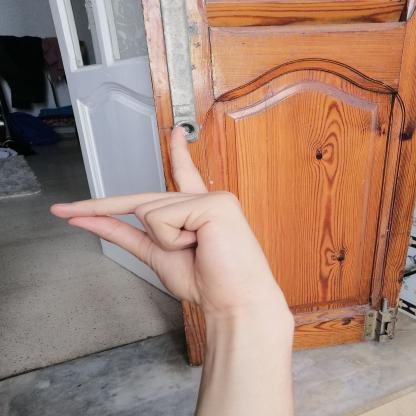TAA: (36, 116, 289, 320)
